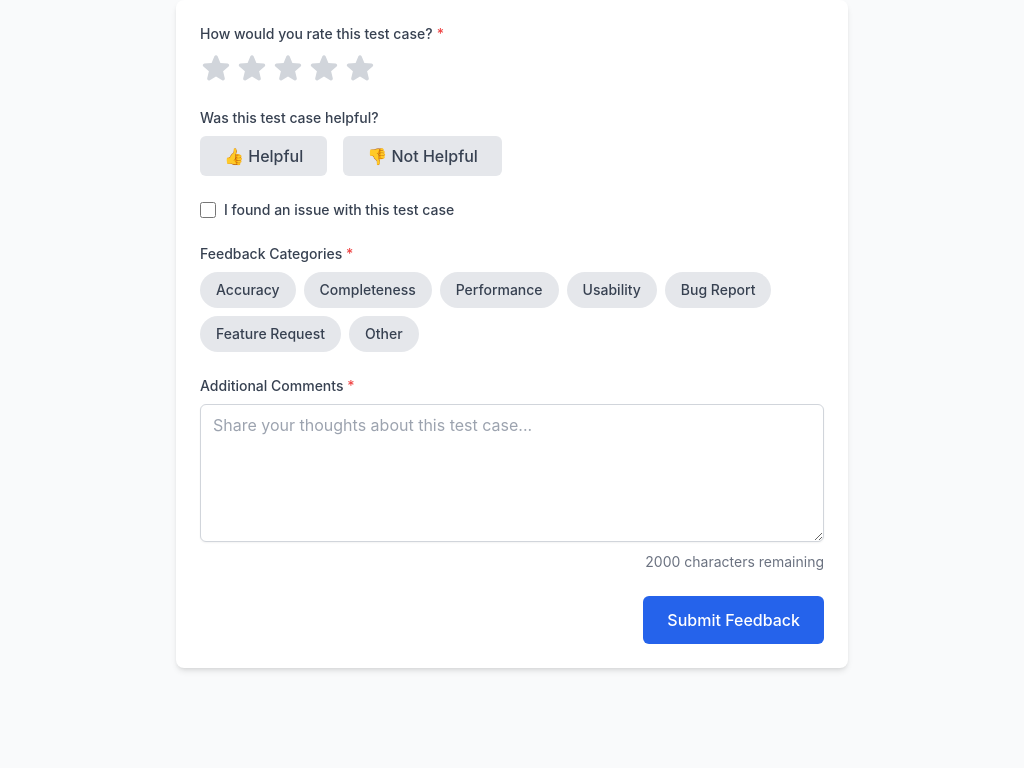
it: TestCaseFeedback Component › Form Validation › should show error when submitting without categories
Note: Set rating
Step 1. Click the button named "star" → (288, 68), box [272,52,304,84]
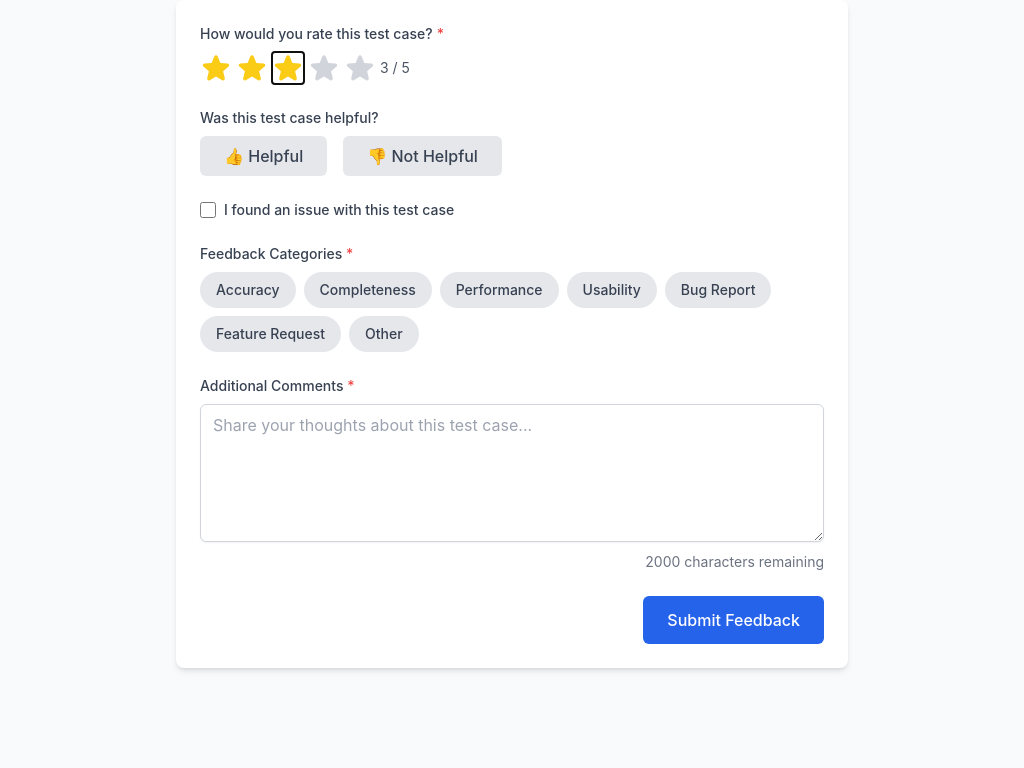
Note: Add comment
Step 2. Type "Great test!" into the text box with placeholder "Share your thoughts about this test case..." → (512, 473), box [200,404,824,542]
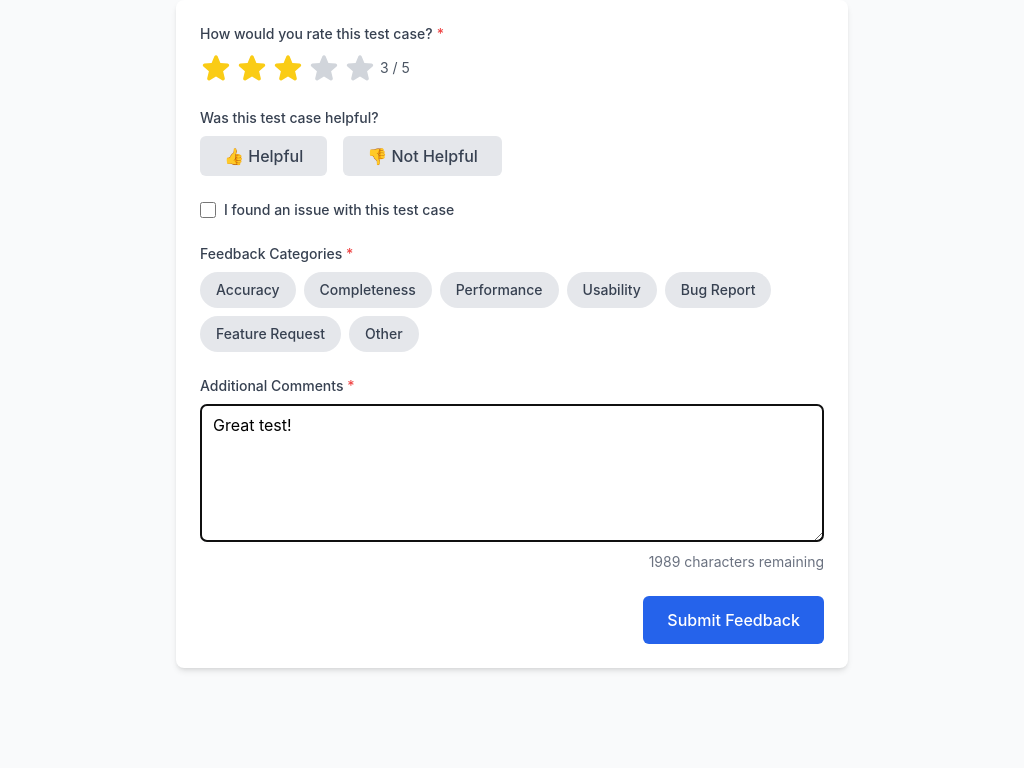
Step 3. Click the button "Submit Feedback" → (734, 620), box [643,596,824,644]
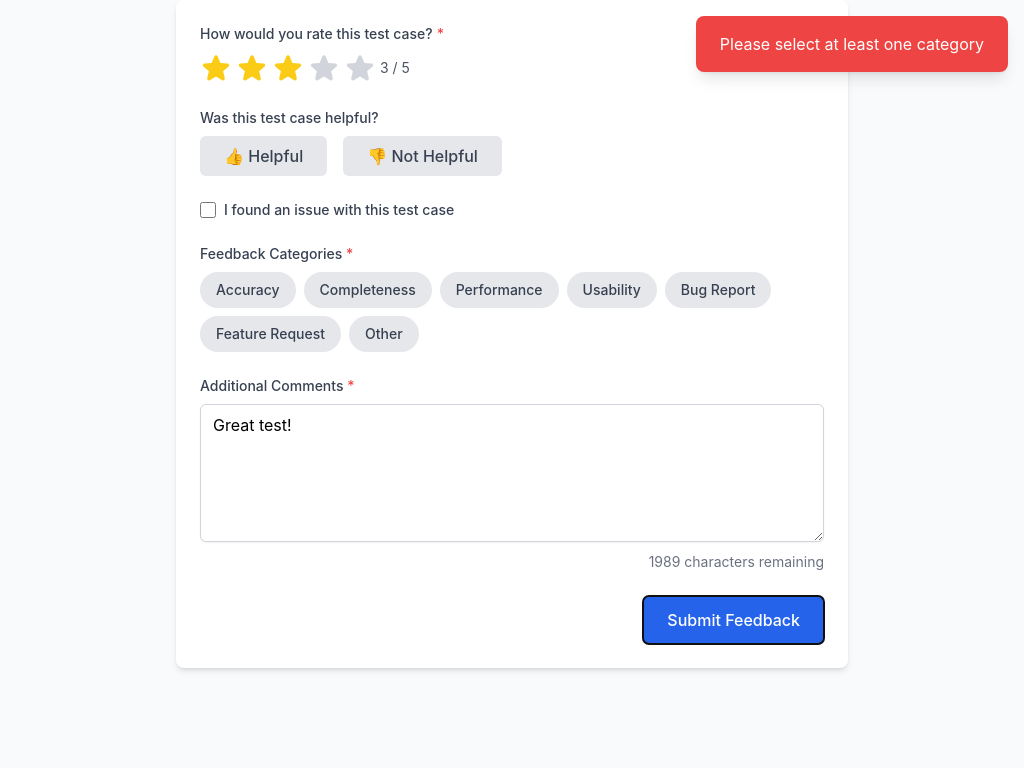
Expected: the text "Please select at least one category" is shown, [696,16,1008,72]
